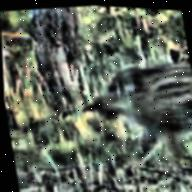boar: (79, 46, 192, 182)
